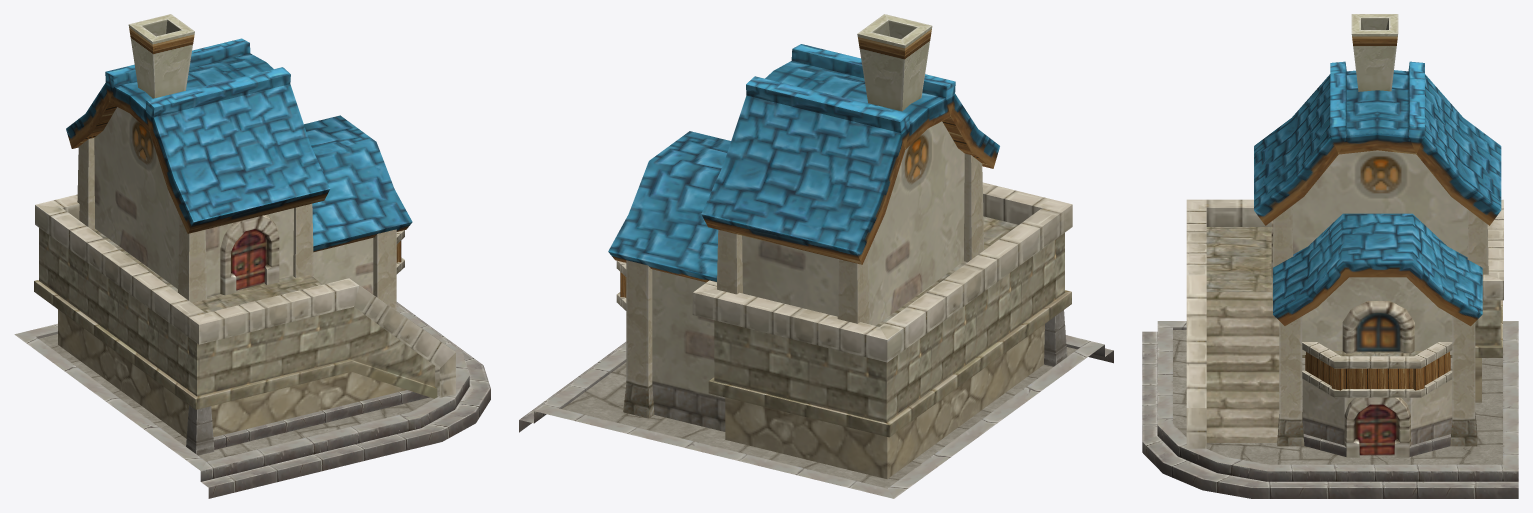
The model's file is shangdian.FBX.
The picture shows the model from 3 angles, left to right: view 1: azimuth 30°, elevation 25°; view 2: azimuth 150°, elevation 25°; view 3: azimuth 270°, elevation 25°; orthographic projection. The views are drawn at different scales.
Parts seen in each view (by area): view 1: Group64; view 2: Group64; view 3: Group64.
Boxes of the visible parts, x1,y1,x2,y2 form: Group64: (14,14,490,498); Group64: (519,14,1113,498); Group64: (1142,14,1518,498).
Bounding box in the file's own units: 600 × 631 × 609.
